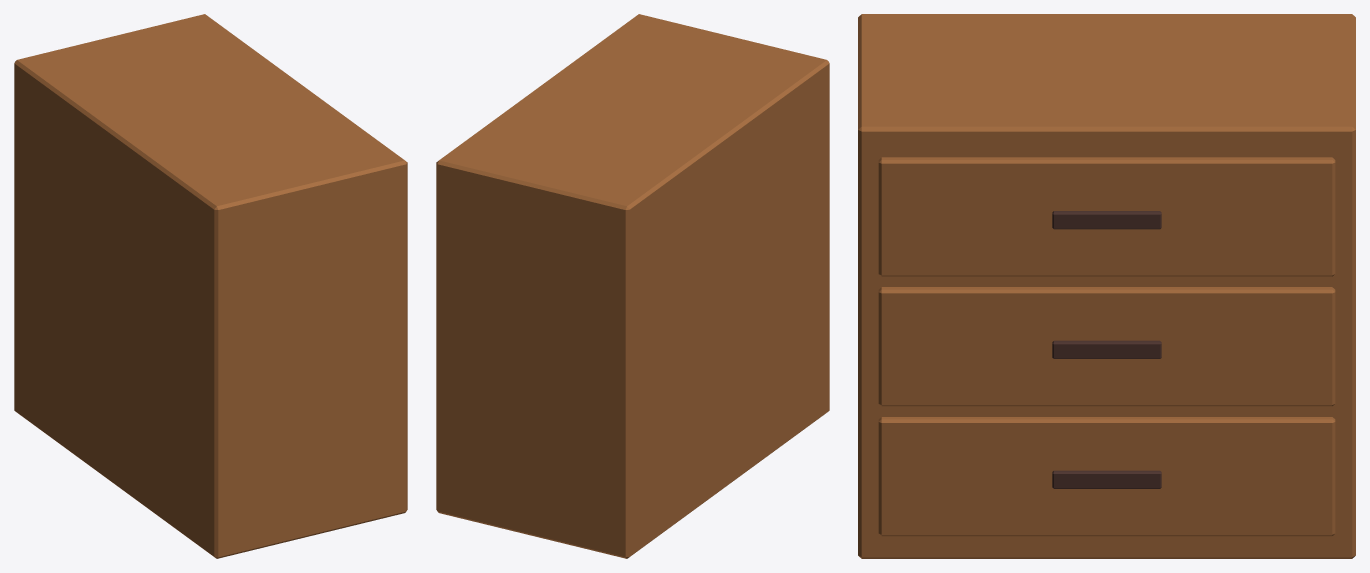
Rendered from commode_perimetre.glb.
The picture shows the model from 3 angles, left to right: view 1: azimuth 30°, elevation 25°; view 2: azimuth 150°, elevation 25°; view 3: azimuth 270°, elevation 25°; orthographic projection. The views are drawn at different scales.
Parts seen in each view (by area): view 1: commode_perimetre; view 2: commode_perimetre; view 3: commode_perimetre.
Part boxes in pixels (bbox=[...]): commode_perimetre: bbox=[14, 14, 407, 558]; commode_perimetre: bbox=[436, 14, 829, 558]; commode_perimetre: bbox=[858, 14, 1355, 558].
Bounding box in the file's own units: 0.7 × 1.15 × 1.2.
Materials: 1 (1 with a texture image).
